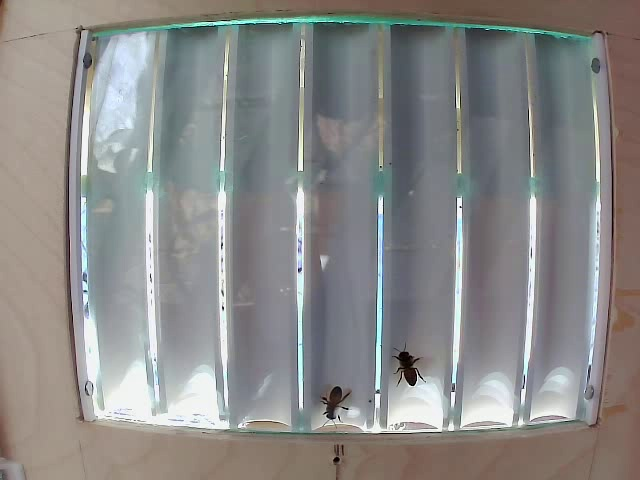bee: (308, 368, 360, 419), (392, 342, 423, 382)
